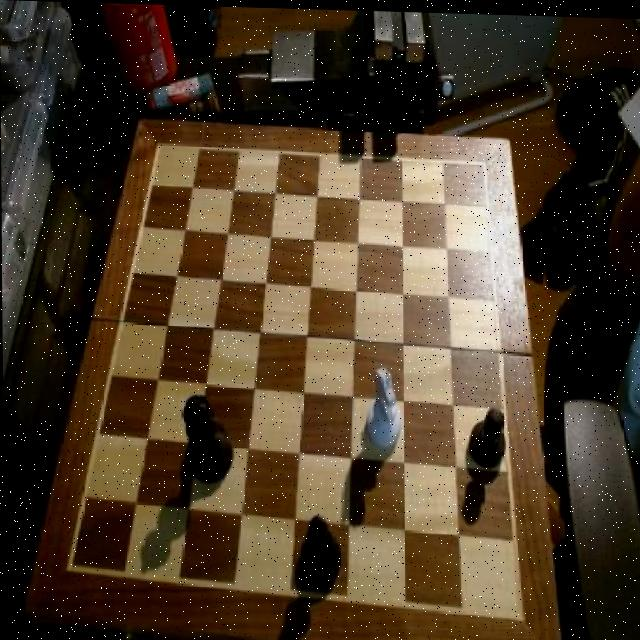bishop: (298, 508, 342, 589)
black-knight: (467, 401, 507, 469)
black-pawn: (179, 390, 234, 484)
white-king: (365, 362, 406, 450)
